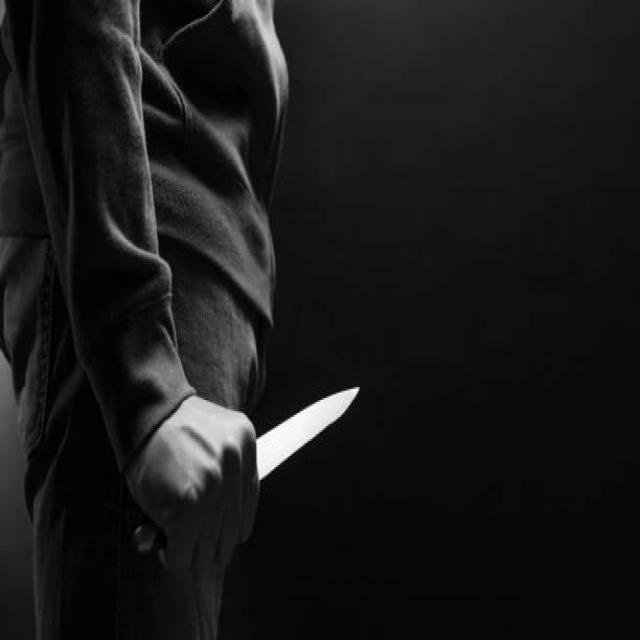faca: (106, 364, 364, 574)
